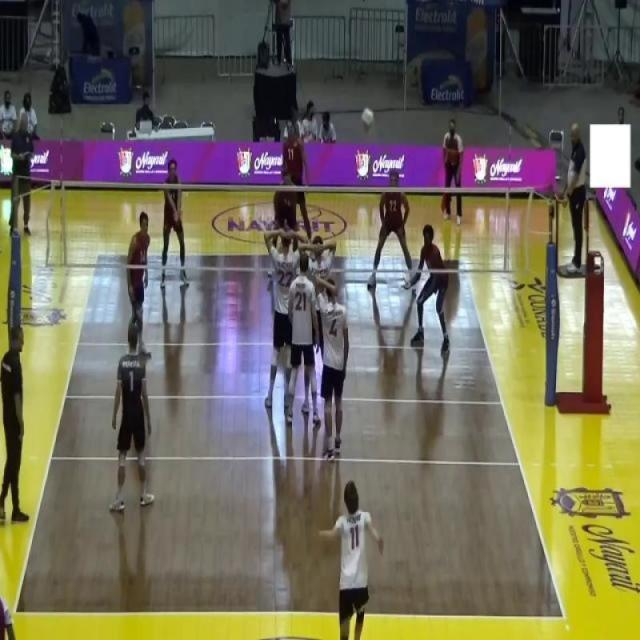volleyball: (360, 106, 375, 135)
